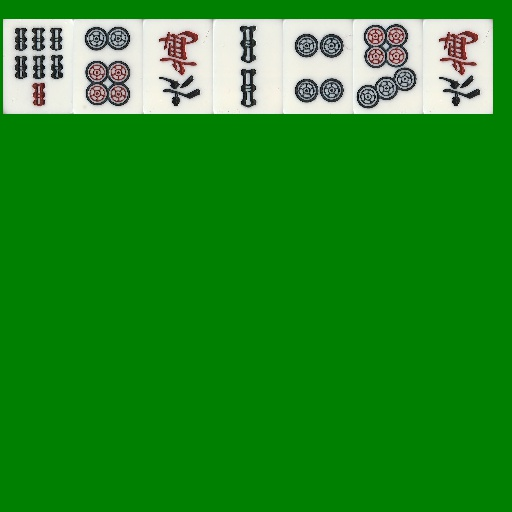2s: (213, 19, 283, 114)
4p: (283, 19, 353, 114)
6m: (143, 19, 213, 114), (423, 19, 493, 114)
6p: (73, 19, 143, 114)
7p: (353, 19, 423, 114)
7s: (3, 19, 73, 114)
